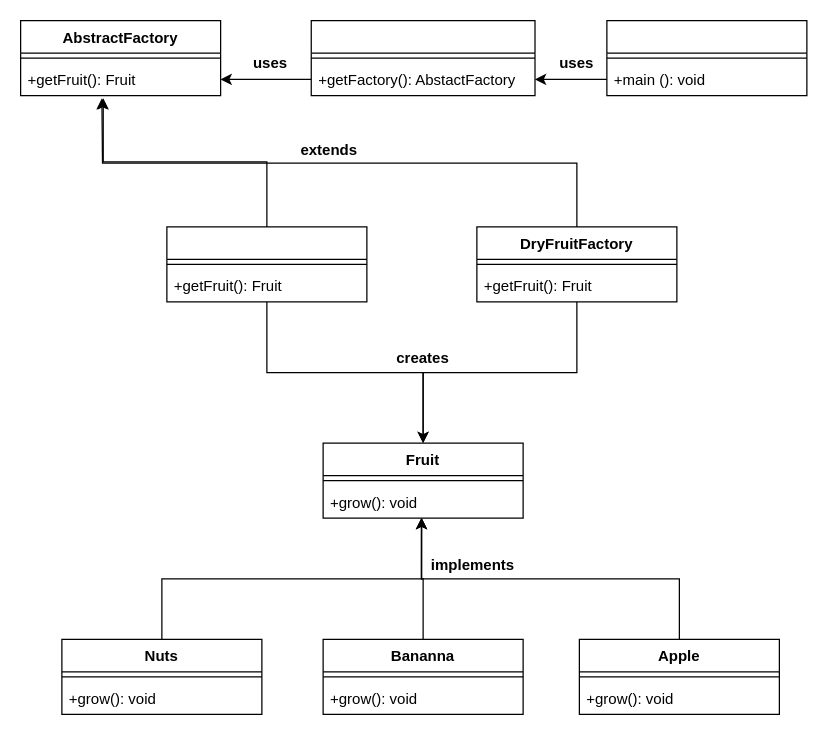
Image size: 828x735. Some labels were removed from this diagram. The box of each missing label's shape, as (x1, y1, x2, y2) in pixels:
AbstractFactoryTest: (606, 19, 807, 96)
FleshyFruitFactory: (166, 226, 367, 302)
GroceryProductFactory: (310, 19, 535, 96)
